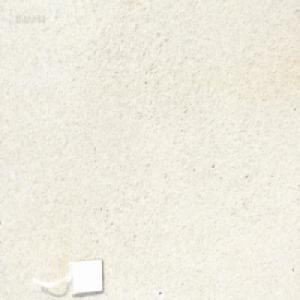LuggageTag: (29, 256, 104, 295)
